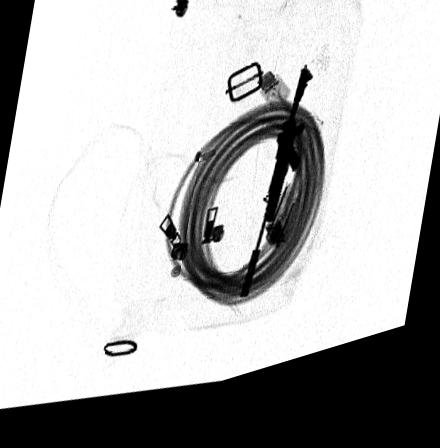Gun: (234, 84, 312, 313)
